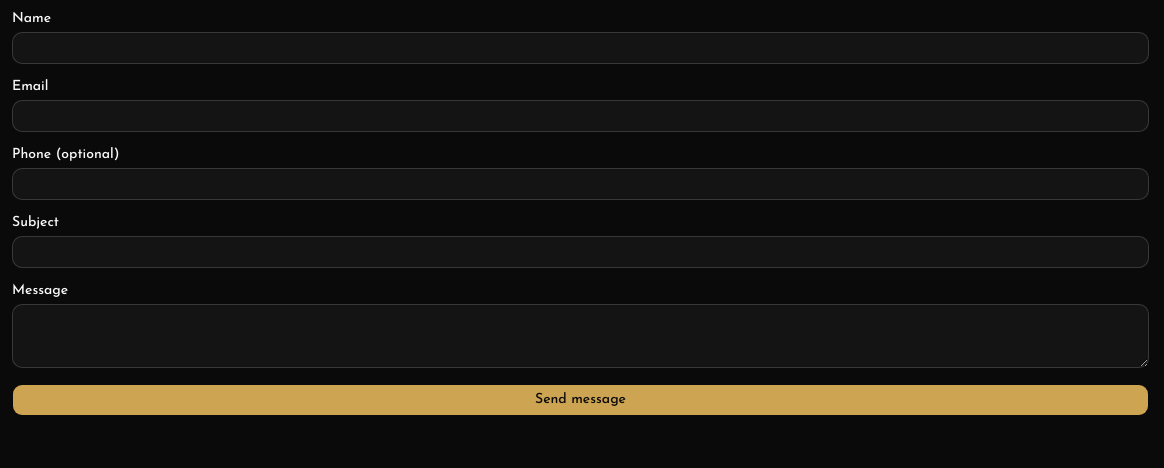
Test: ContactScreen › surfaces a ConvexError message inline, e.g. a rate-limit rejection
The width and height of the screenshot is (1164, 468).
Type "Jamie Alder" into the field labelled "Name".
click(580, 48); type("Jamie Alder")  # box x1=12 y1=32 x2=1149 y2=64
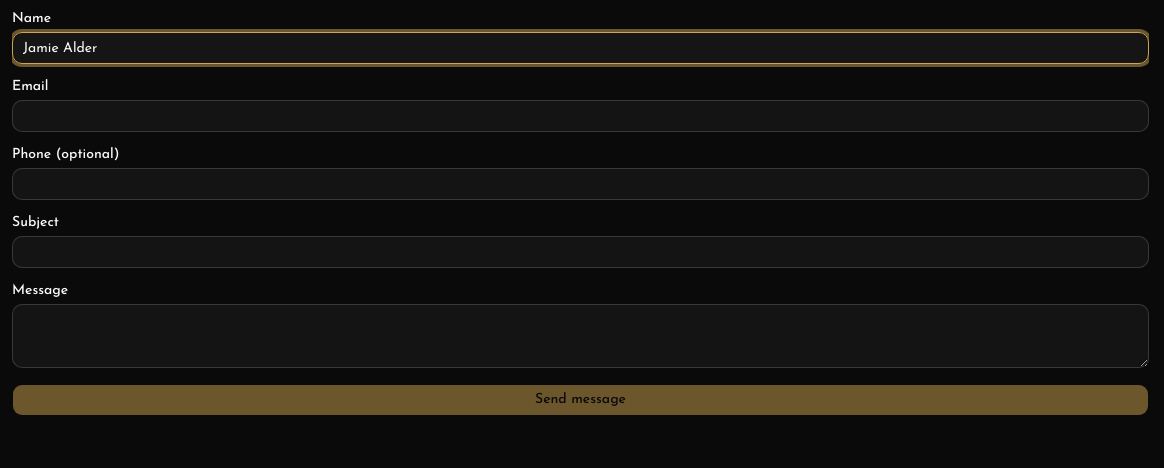
Type "jamie@example.com" into the field labelled "Email".
click(580, 116); type("jamie@example.com")  # box x1=12 y1=100 x2=1149 y2=132
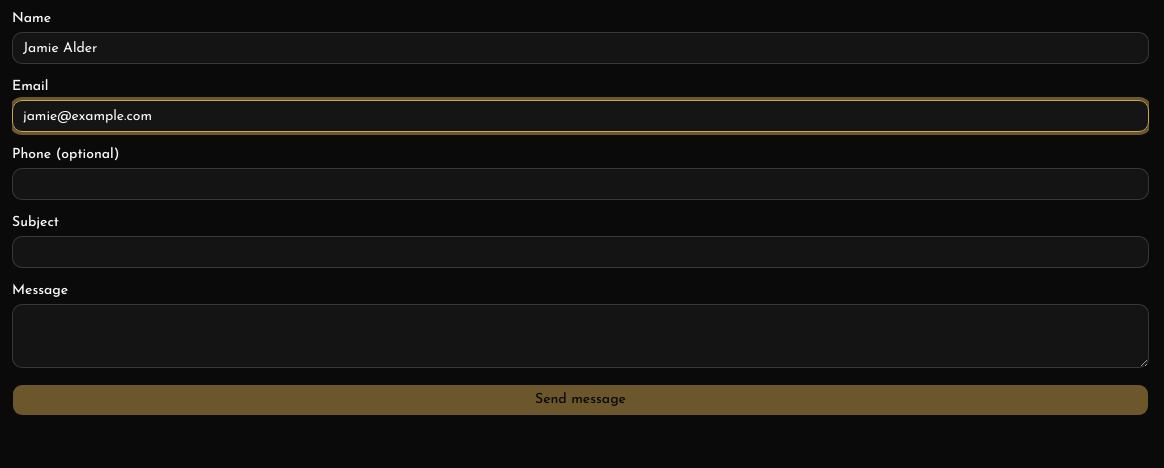
Type "Question about a cabin" into the field labelled "Subject".
click(580, 252); type("Question about a cabin")  # box x1=12 y1=236 x2=1149 y2=268
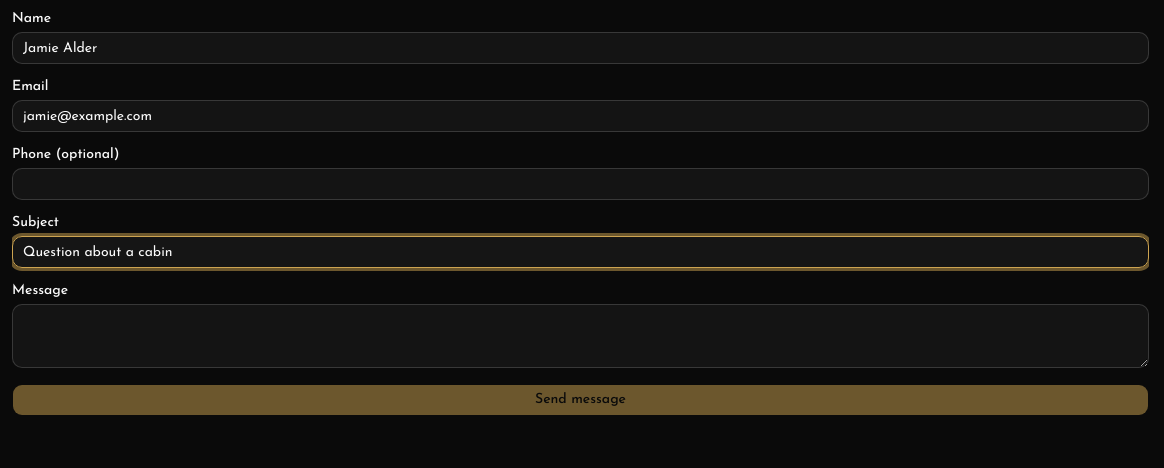
Type "Is Hidden Creek pet-friendly?" into the text box labelled "Message".
click(580, 336); type("Is Hidden Creek pet-friendly?")  # box x1=12 y1=304 x2=1149 y2=368
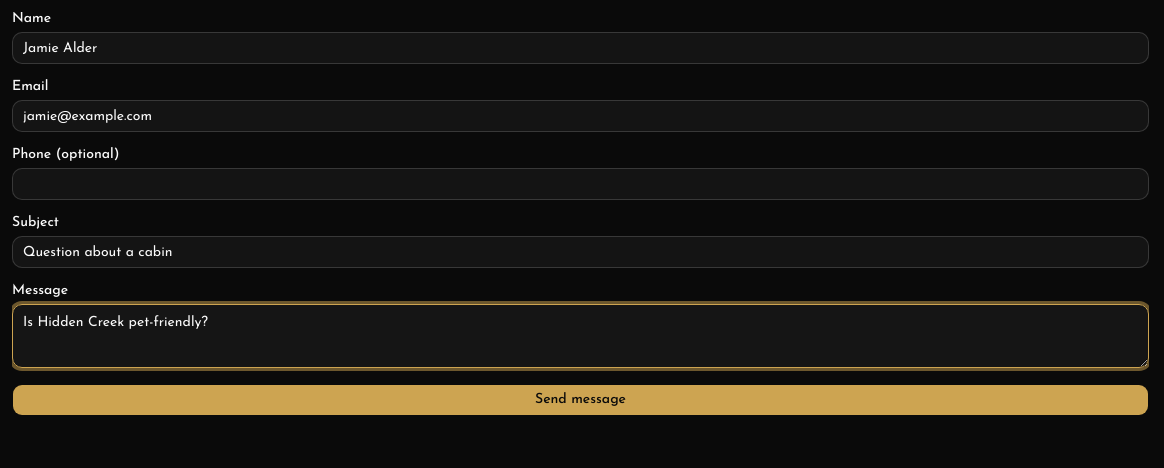
Click the button "Send message".
click(580, 400)  # box x1=12 y1=384 x2=1149 y2=416
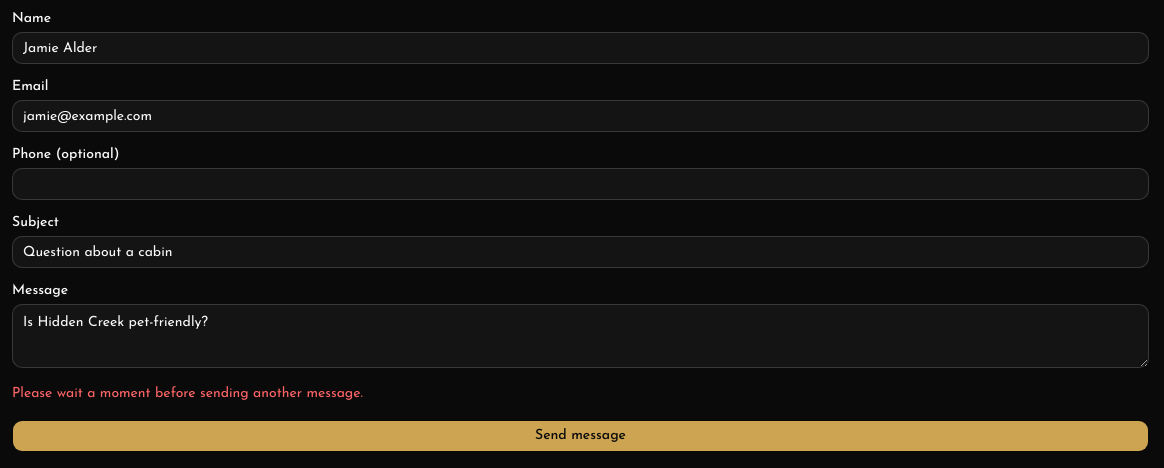
Now the text "Please wait a moment before sending another message." is shown, box x1=12 y1=386 x2=363 y2=401
